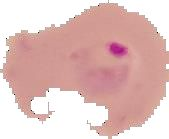parasitized: (73, 33, 135, 95)
